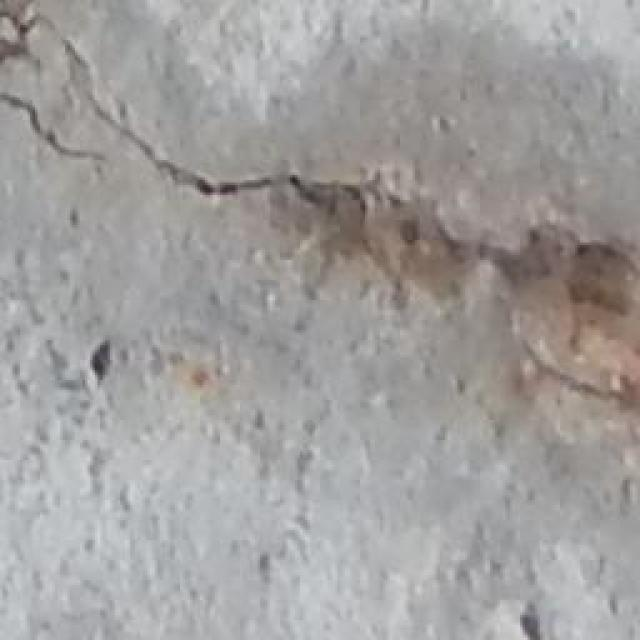concrete-crack: (1, 0, 637, 275), (2, 91, 100, 160)
